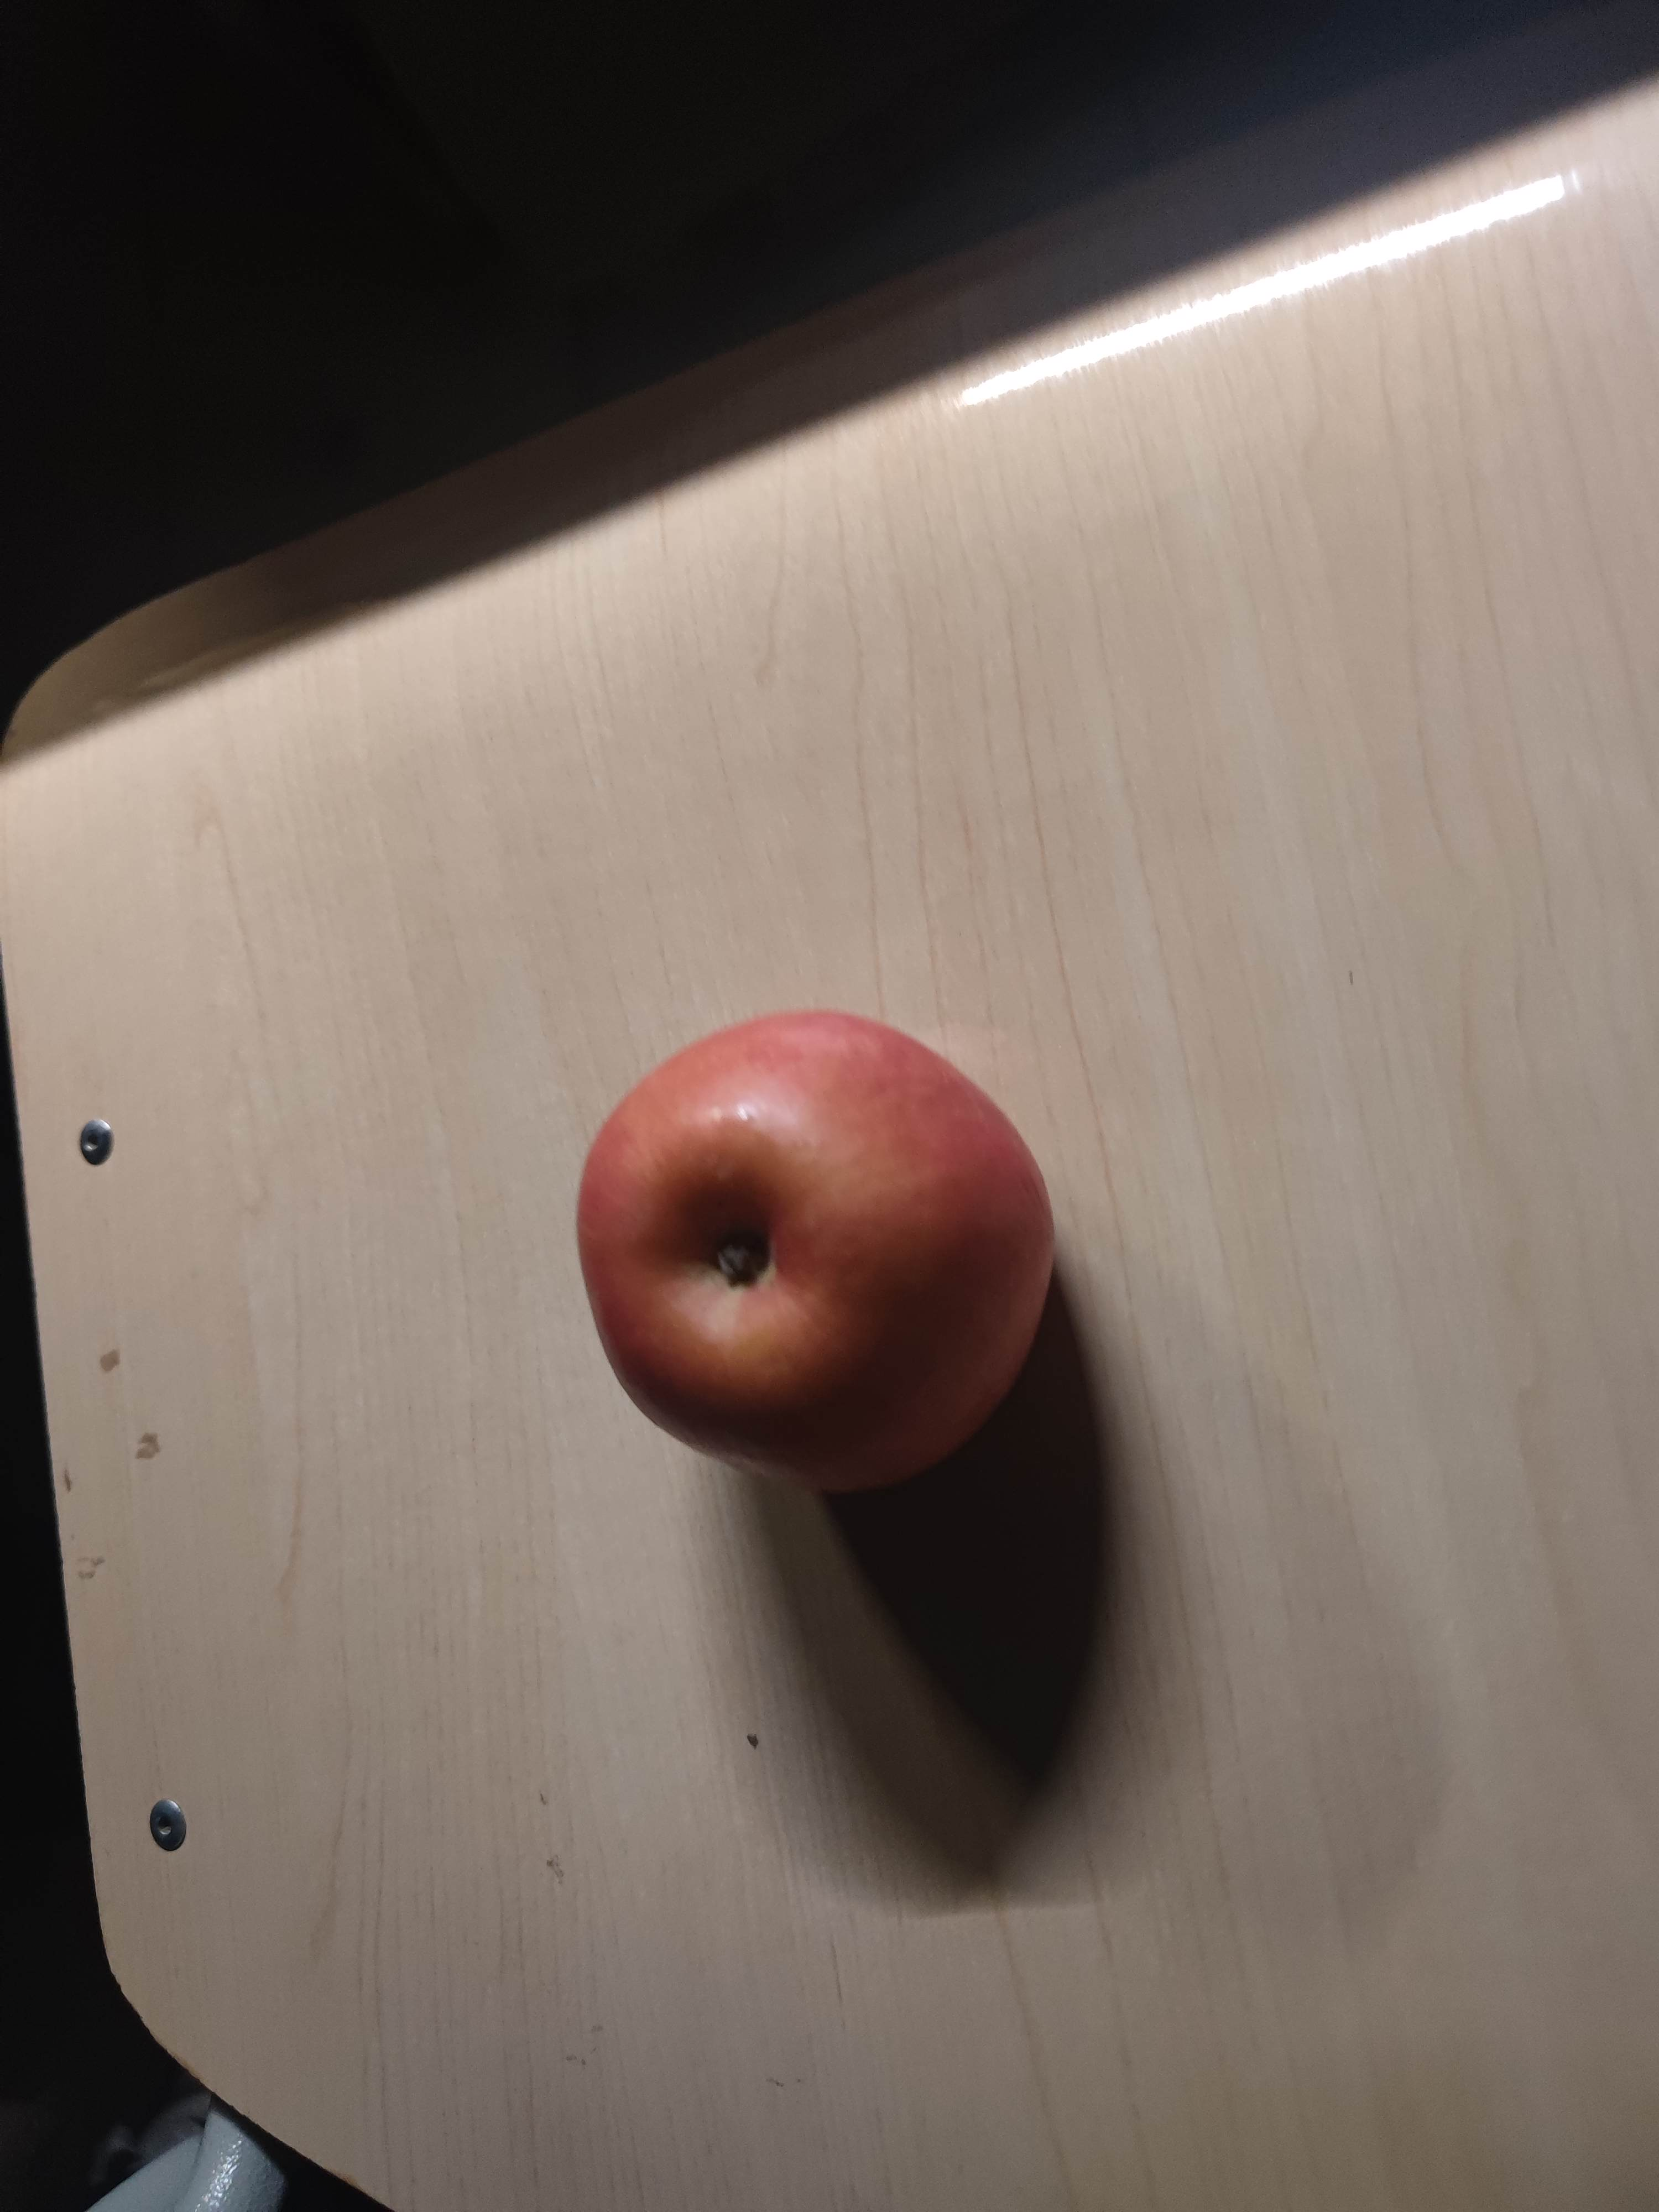apple: (570, 1007, 1066, 1484)
